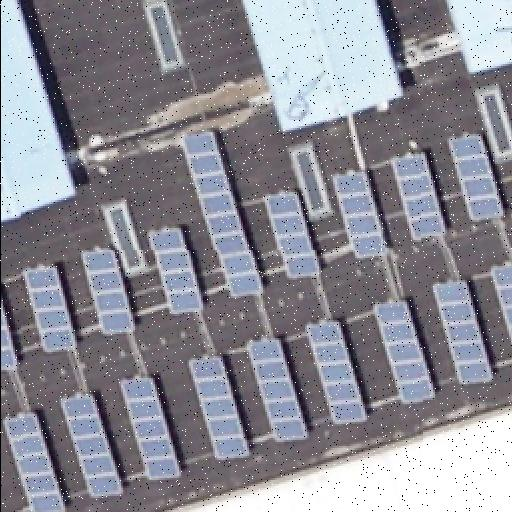solar-panel: (183, 133, 265, 299), (116, 375, 184, 481), (187, 355, 253, 461), (60, 392, 124, 500), (371, 300, 437, 404), (302, 319, 366, 425), (430, 279, 494, 385), (245, 338, 307, 442), (2, 412, 66, 512), (146, 227, 206, 317), (260, 192, 320, 280), (386, 154, 446, 242), (330, 169, 386, 263), (19, 263, 77, 353), (79, 248, 137, 336), (447, 137, 505, 223), (489, 263, 511, 345), (2, 304, 18, 372)
